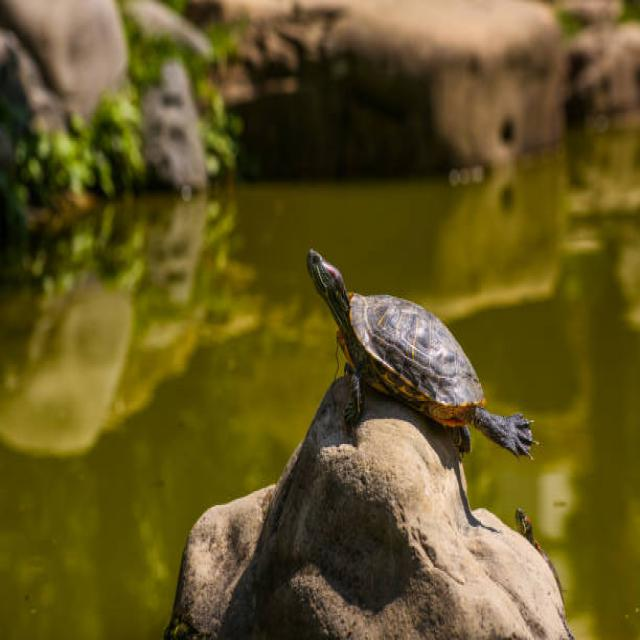terrapin: (325, 286, 559, 470), (465, 391, 546, 461), (300, 236, 359, 309)
